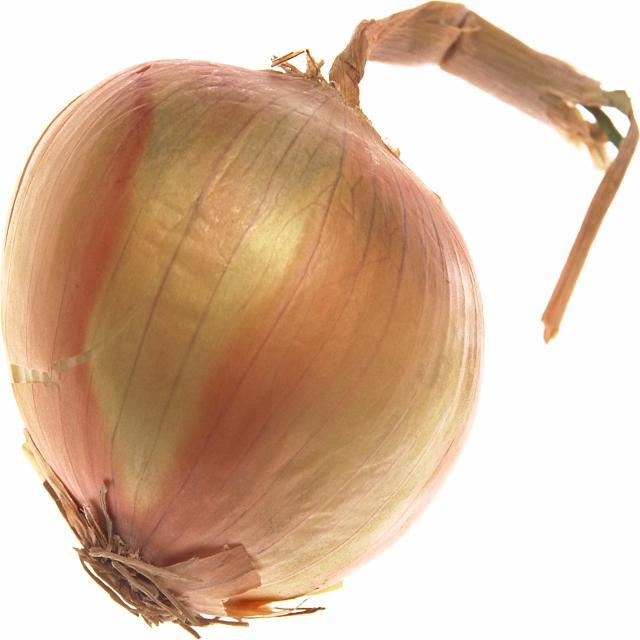ONIONS: (1, 77, 492, 618)
